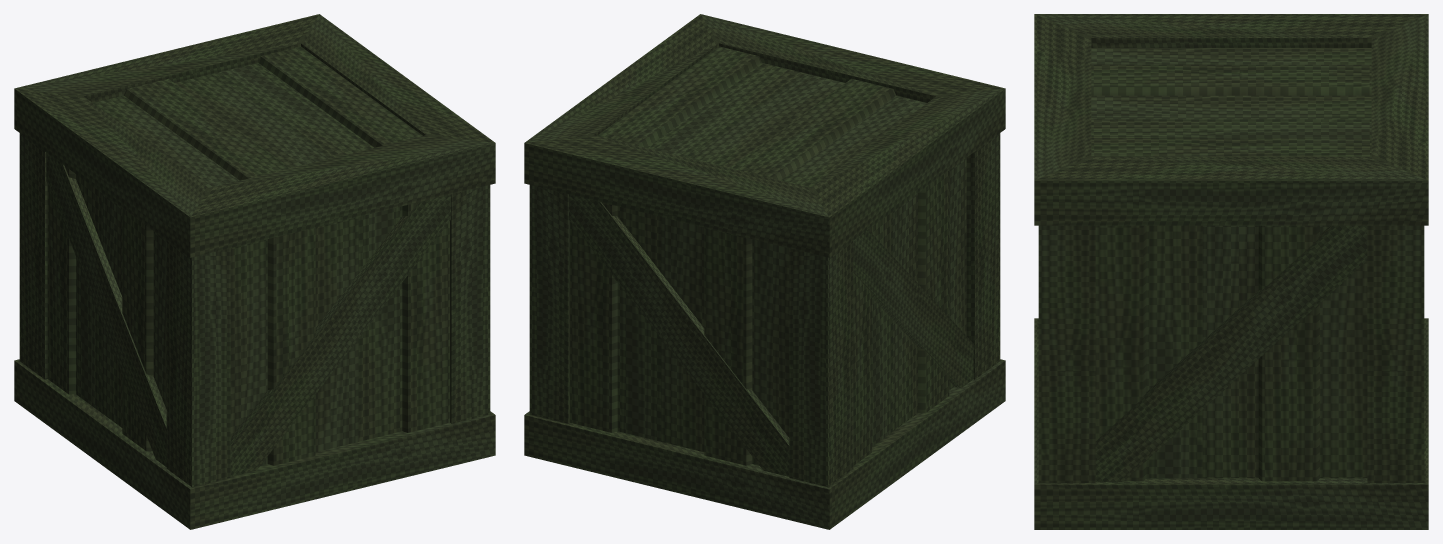
3 renders of one model, left to right at view 1: azimuth 30°, elevation 25°; view 2: azimuth 150°, elevation 25°; view 3: azimuth 270°, elevation 25°, orthographic. The views are drawn at different scales.
Parts seen in each view (by area): view 1: Prop_Crate; view 2: Prop_Crate; view 3: Prop_Crate.
Boxes of the visible parts, bbox=[...] form: Prop_Crate: bbox=[14, 14, 495, 529]; Prop_Crate: bbox=[524, 14, 1005, 529]; Prop_Crate: bbox=[1034, 14, 1428, 529].
Bounding box in the file's own units: 1.08 × 1.06 × 1.08.
1 material, 1 textured.
